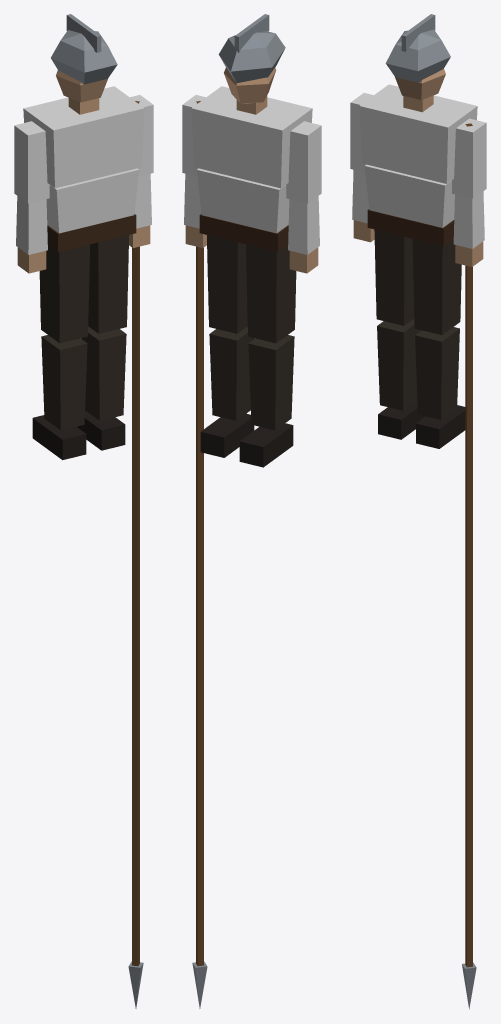
Rendered from soldier_em_pike_lod1.glb.
The picture shows the model from 3 angles, left to right: view 1: azimuth 30°, elevation 25°; view 2: azimuth 150°, elevation 25°; view 3: azimuth 330°, elevation 25°; orthographic projection. The views are drawn at different scales.
Visible parts, largest first — view 1: em_pike_lod1_static; view 2: em_pike_lod1_static; view 3: em_pike_lod1_static.
Part boxes in pixels (x1,y1,x2,y2): em_pike_lod1_static: (14,14,153,1008); em_pike_lod1_static: (182,14,321,1008); em_pike_lod1_static: (350,14,486,1009).
Size of the model in its own units: 0.58 by 4.39 by 0.3057.
